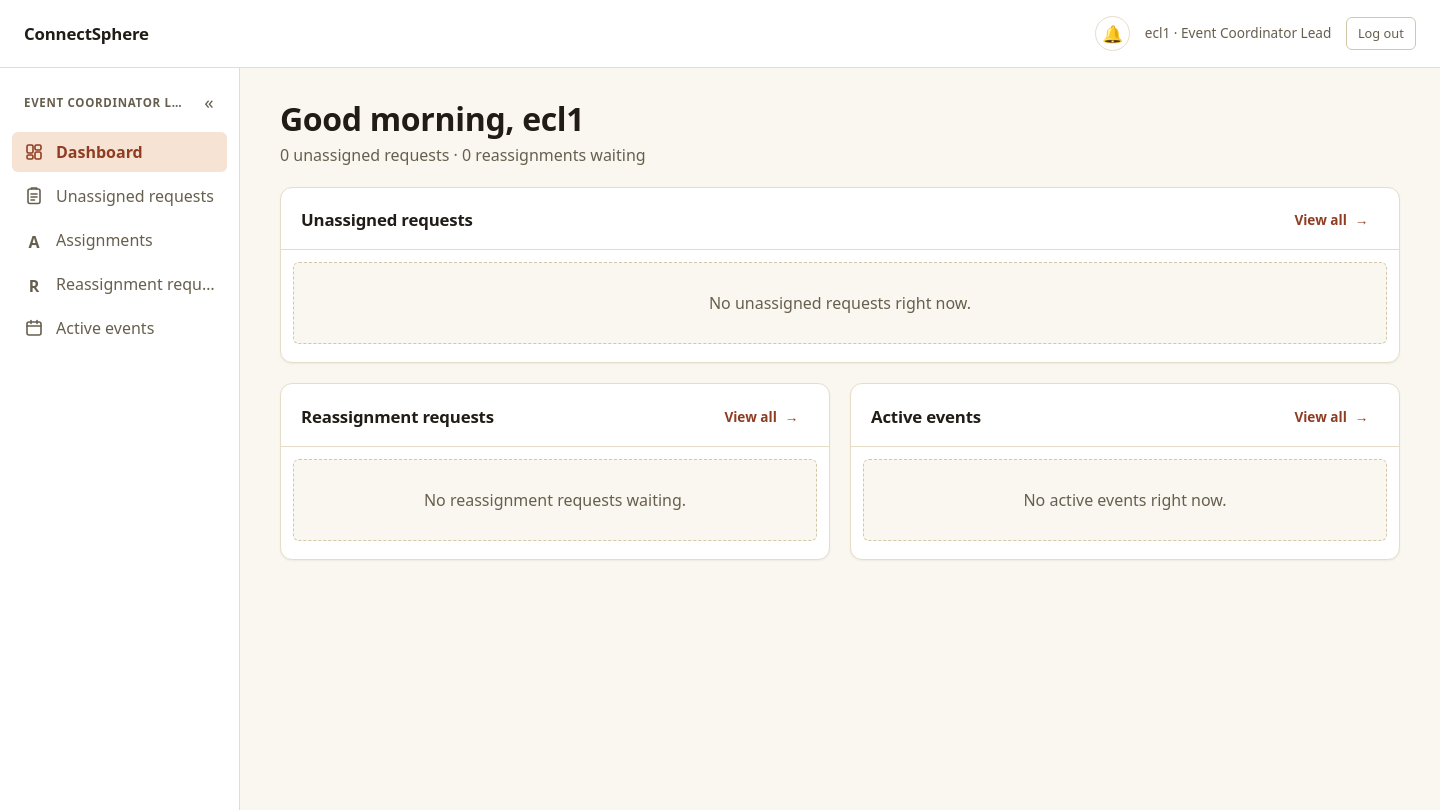
Test case: ECL-C4 ActiveEventsPage — the Lead sees every assigned active event › ECL-C4 AC1 (happy): the Lead console links to Active events, which opens for the Lead
Click the link "Active events" at (89, 328), box [24,317,154,339]
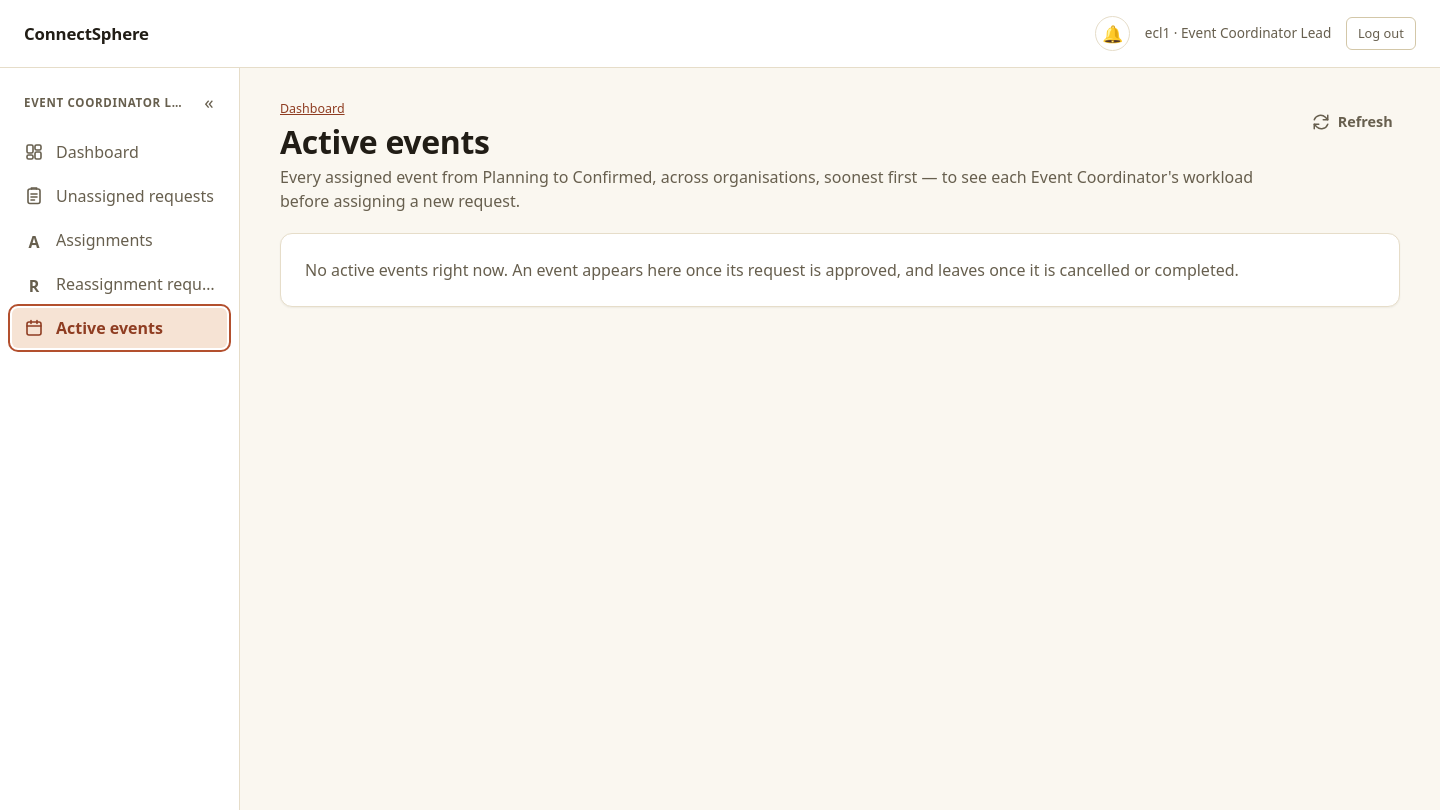
Check: the heading "Active events" is shown, box [280,120,490,163]
